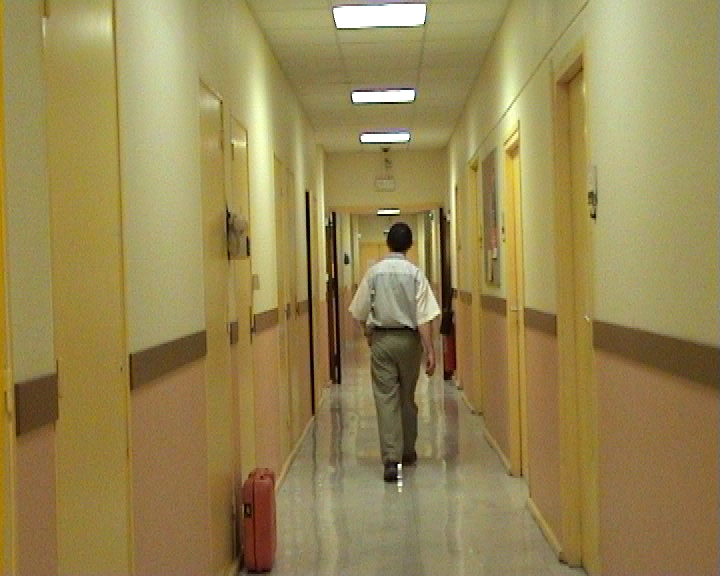leave bag unattended: (212, 452, 296, 576)
